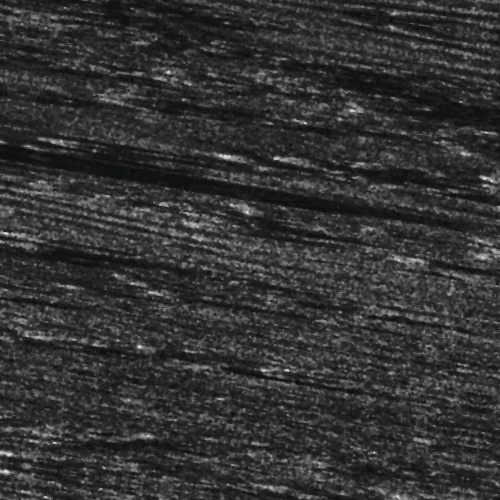object: (161, 225, 234, 234), (25, 261, 66, 276), (183, 366, 266, 373), (257, 146, 310, 155), (14, 169, 77, 176), (57, 492, 110, 500), (0, 275, 45, 282), (3, 371, 44, 376), (388, 229, 429, 234), (74, 310, 115, 315), (480, 162, 500, 167)
shadow: (0, 181, 202, 200), (0, 161, 227, 170), (284, 146, 427, 155), (198, 225, 335, 234), (84, 492, 221, 500), (224, 366, 367, 373), (0, 284, 110, 291), (24, 371, 155, 376), (46, 261, 89, 276), (46, 169, 132, 176), (409, 229, 500, 234), (95, 310, 184, 315), (18, 275, 61, 282), (0, 170, 100, 173)
